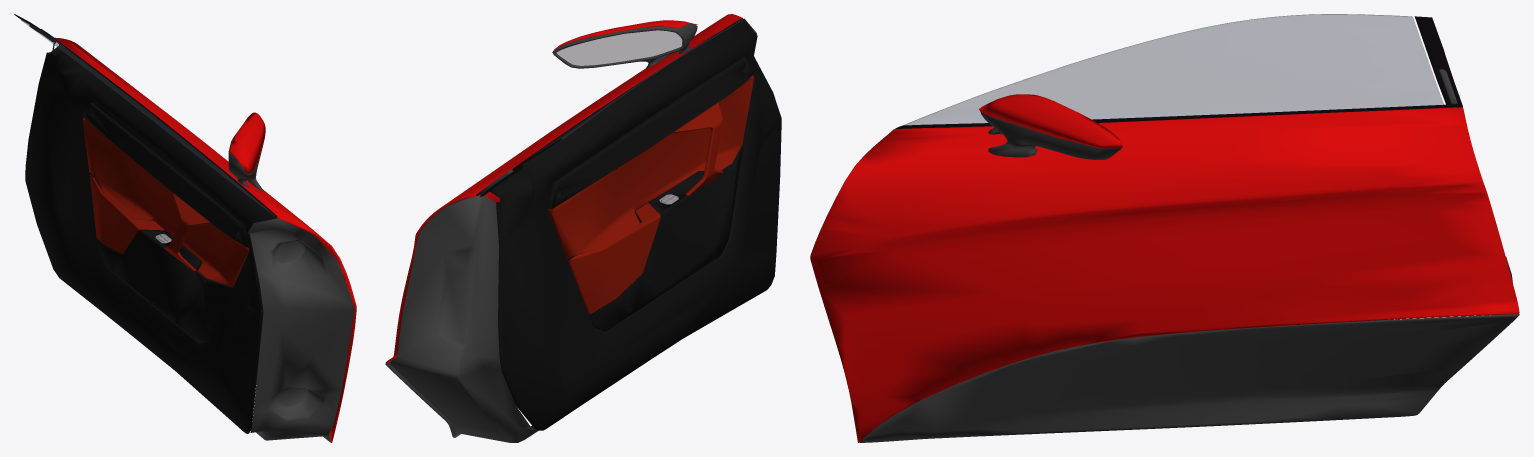
3 renders of one model, left to right at view 1: azimuth 30°, elevation 25°; view 2: azimuth 150°, elevation 25°; view 3: azimuth 270°, elevation 25°, orthographic. The views are drawn at different scales.
Parts seen in each view (by area): view 1: InteriorDoorL01, InteriorDoorL04, BodyDoorLColor1, BodyDoorLWindow, BodyDoorLHandle01, BodyDoorLColor2; view 2: InteriorDoorL01, InteriorDoorL04, BodyDoorLColor1, BodyDoorLMirror, BodyDoorLColor2, BodyDoorLHandle01, BodyDoorLWindow; view 3: BodyDoorLColor1, BodyDoorLColor2, BodyDoorLWindow, BodyDoorLHandle01.
Part boxes in pixels (left/top/right/bottom): InteriorDoorL01: left=25, top=42, right=354, bottom=440; InteriorDoorL04: left=83, top=117, right=249, bottom=287; BodyDoorLColor1: left=55, top=37, right=356, bottom=442; BodyDoorLWindow: left=21, top=20, right=274, bottom=215; BodyDoorLHandle01: left=14, top=14, right=276, bottom=216; BodyDoorLColor2: left=41, top=28, right=330, bottom=442; InteriorDoorL01: left=390, top=18, right=781, bottom=442; InteriorDoorL04: left=548, top=75, right=754, bottom=314; BodyDoorLColor1: left=385, top=14, right=743, bottom=363; BodyDoorLMirror: left=557, top=30, right=682, bottom=65; BodyDoorLColor2: left=385, top=24, right=697, bottom=437; BodyDoorLHandle01: left=476, top=18, right=742, bottom=196; BodyDoorLWindow: left=530, top=19, right=742, bottom=157; BodyDoorLColor1: left=810, top=94, right=1519, bottom=442; BodyDoorLColor2: left=859, top=69, right=1519, bottom=442; BodyDoorLWindow: left=904, top=14, right=1443, bottom=125; BodyDoorLHandle01: left=895, top=16, right=1462, bottom=128.
Bounding box in the file's own units: 0.4339 × 0.9591 × 1.67.
Materials: 9 (1 with a texture image).
